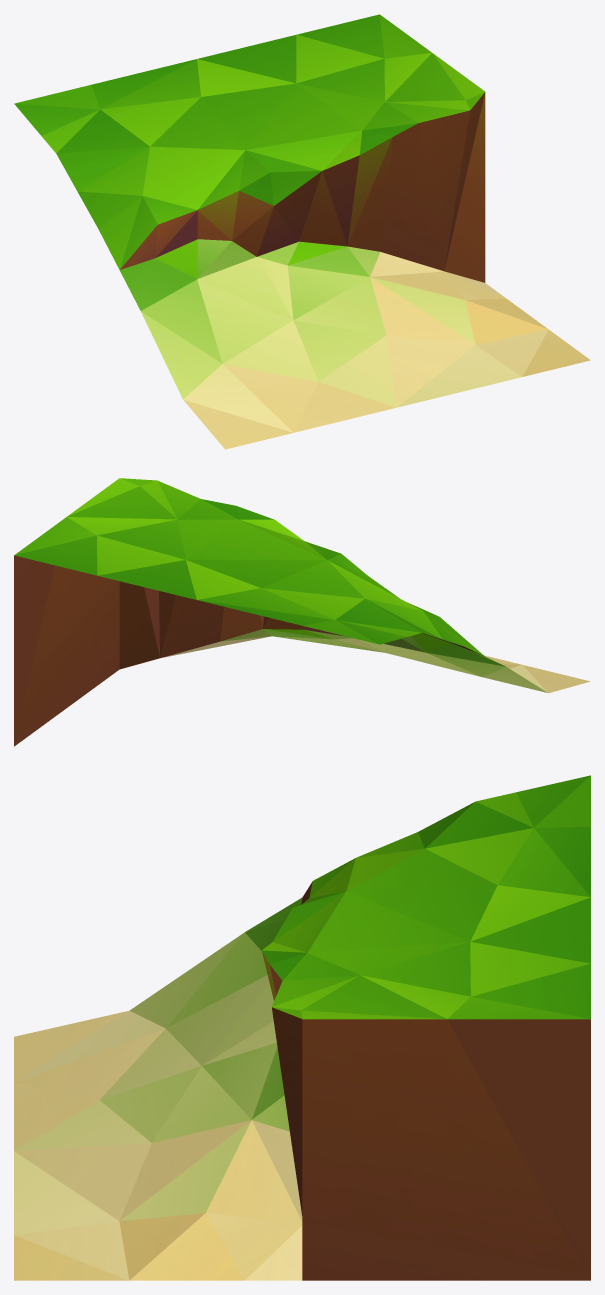
File: GL-Terrain-part-13-LOD3.fbx
3 views of the same model, one above another, from view 1: azimuth 30°, elevation 25°; view 2: azimuth 150°, elevation 25°; view 3: azimuth 270°, elevation 25° (orthographic). The views are drawn at different scales.
Parts seen in each view (by area): view 1: GL_Terrain_part_13; view 2: GL_Terrain_part_13; view 3: GL_Terrain_part_13.
Boxes of the visible parts, x1,y1,x2,y2 form: GL_Terrain_part_13: [14, 14, 590, 449]; GL_Terrain_part_13: [14, 478, 590, 746]; GL_Terrain_part_13: [14, 775, 590, 1280].
Bounding box in the file's own units: 6 × 3 × 6.
